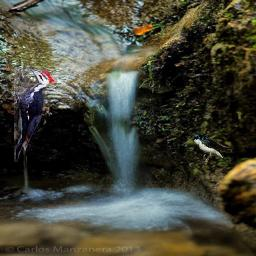Swallow: (191, 132, 233, 164)
Woodpecker: (15, 68, 58, 163)
